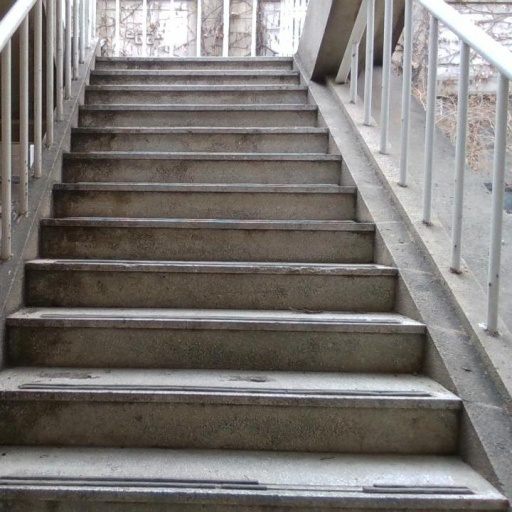Stairs: (0, 59, 507, 512)
